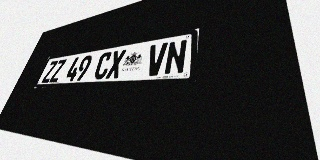4: (64, 56, 83, 81)
9: (74, 55, 93, 81)
C: (93, 51, 113, 80)
N: (164, 39, 188, 75)
V: (145, 42, 168, 76)
X: (105, 49, 127, 79)
Z: (49, 59, 67, 82), (41, 60, 58, 83)
